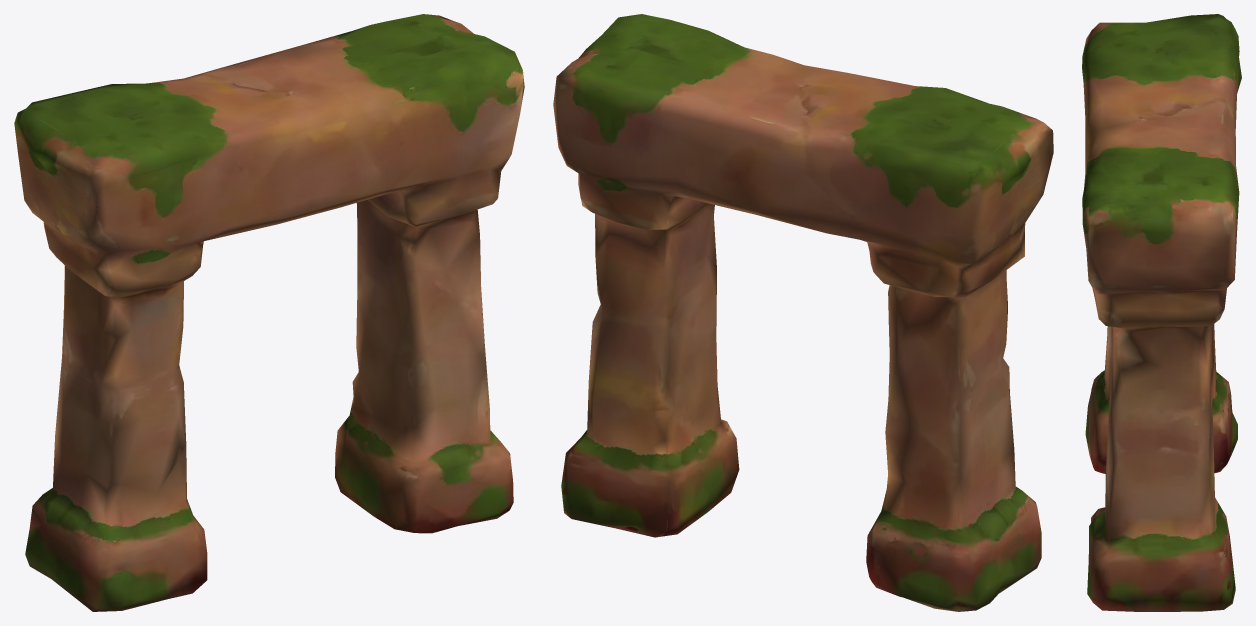
Rendered from gate.glb.
3 renders of one model, left to right at view 1: azimuth 30°, elevation 25°; view 2: azimuth 150°, elevation 25°; view 3: azimuth 270°, elevation 25°, orthographic. The views are drawn at different scales.
Visible parts, largest first — view 1: geometry_0; view 2: geometry_0; view 3: geometry_0.
Part boxes in pixels (<box>): geometry_0: <box>14,14,524,611</box>; geometry_0: <box>553,14,1053,611</box>; geometry_0: <box>1082,14,1241,611</box>.
Bounding box in the file's own units: 5.64 × 5.5 × 1.92.
Materials: 1 (1 with a texture image).
